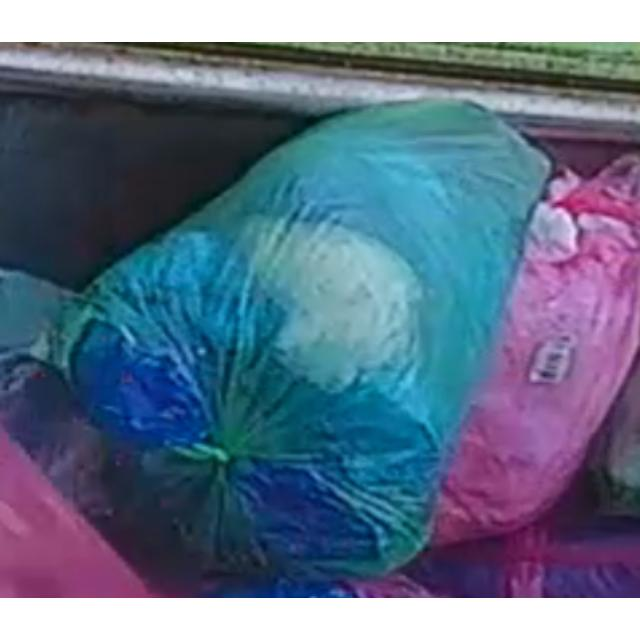other_trashbag: (70, 102, 549, 574), (435, 157, 640, 544)
